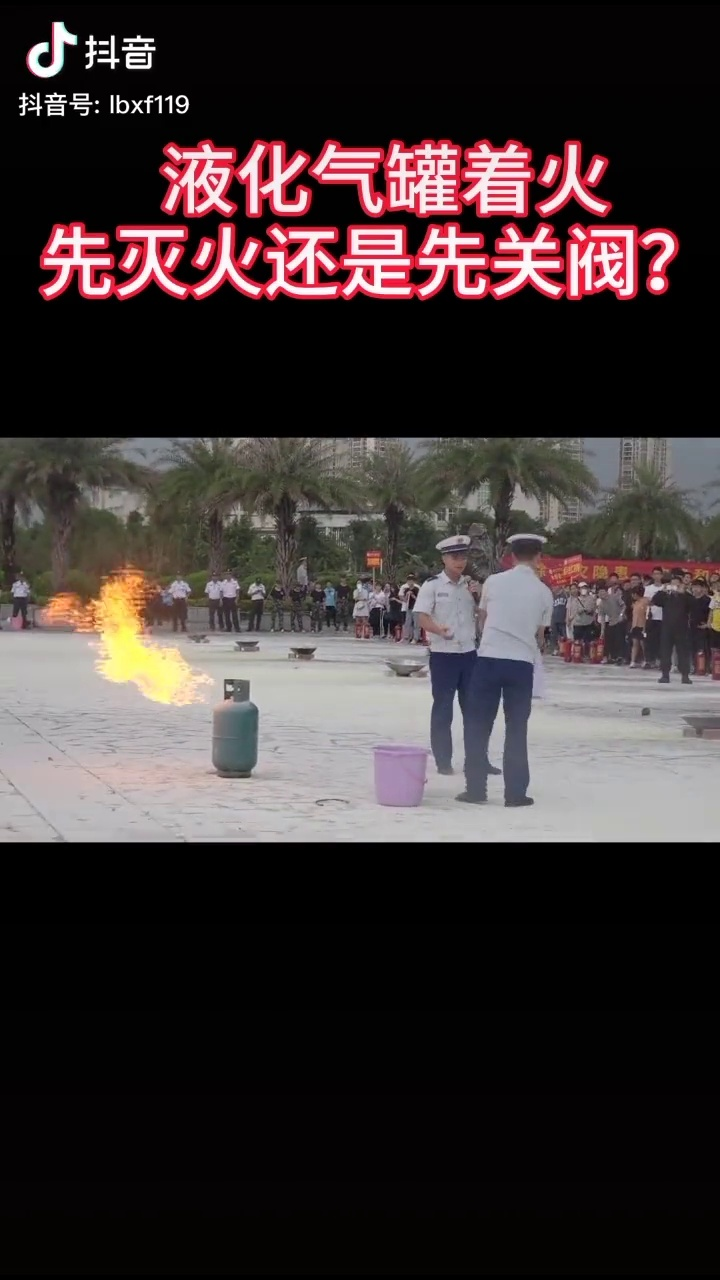fire: (82, 563, 208, 714)
